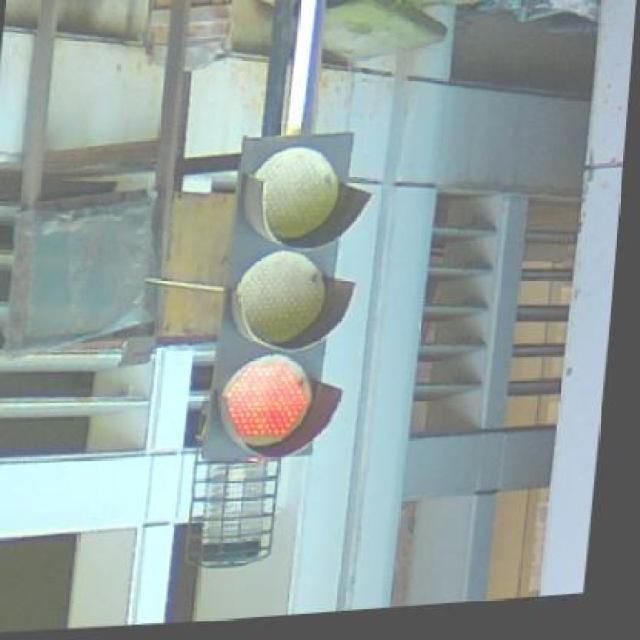Traffic Light -Red-: (192, 118, 385, 470)
